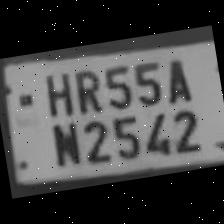2: (164, 102, 205, 156), (76, 114, 112, 166)
4: (136, 105, 174, 158)
5: (98, 58, 136, 111), (105, 109, 143, 162), (126, 56, 165, 107)
A: (158, 52, 196, 105)
H: (36, 65, 77, 120)
N: (44, 115, 82, 169)
R: (68, 64, 104, 116)
